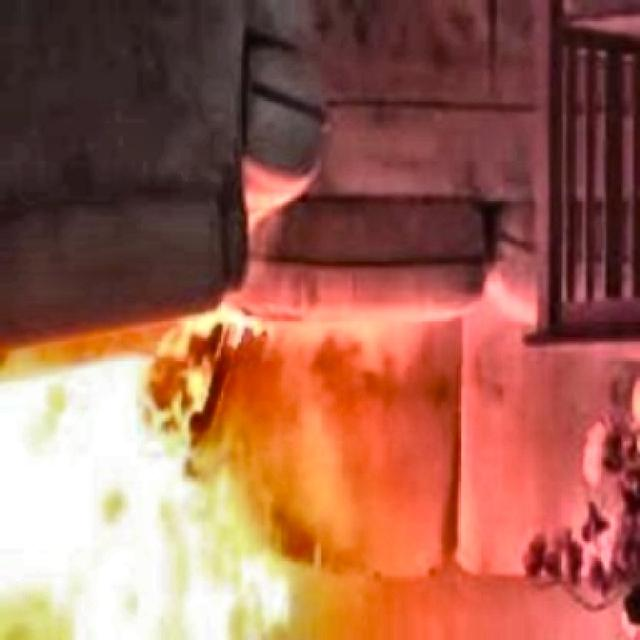fire: (0, 307, 322, 639)
